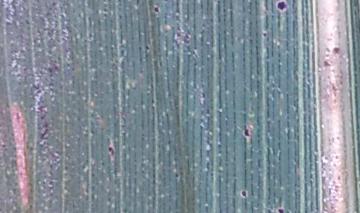tarspot: (241, 121, 254, 144), (272, 1, 291, 16), (106, 139, 117, 162), (151, 2, 162, 17), (239, 186, 250, 200), (275, 203, 289, 213), (260, 28, 270, 40)
